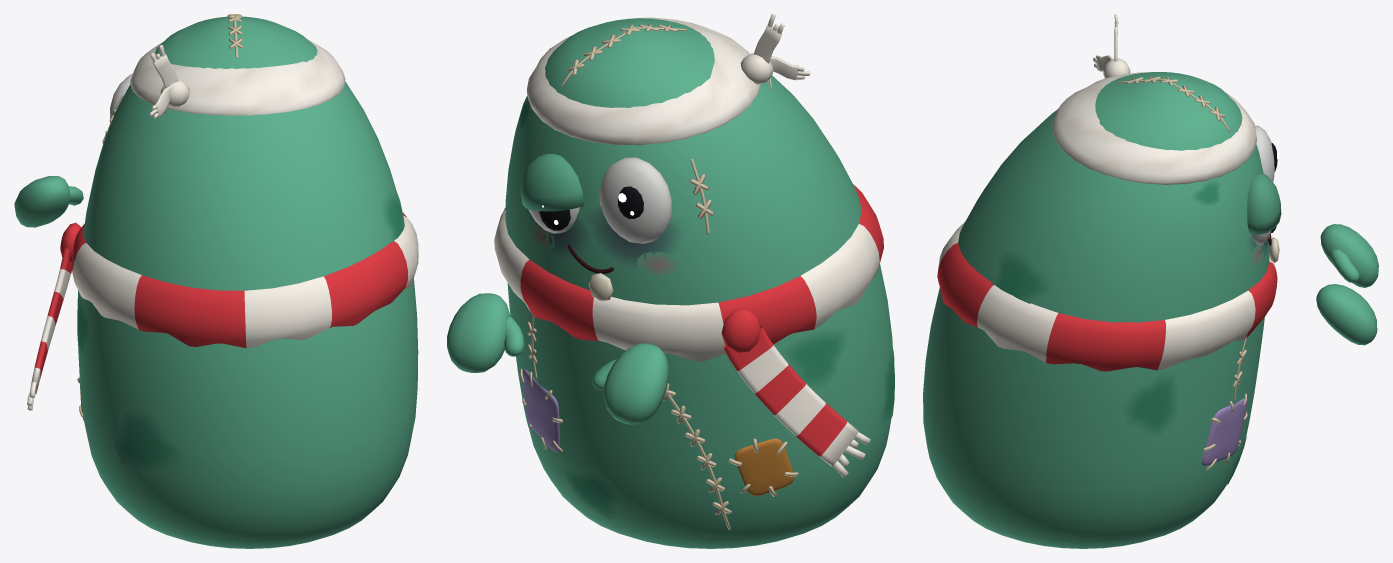
Rendered from zuko.glb.
The picture shows the model from 3 angles, left to right: view 1: azimuth 30°, elevation 25°; view 2: azimuth 150°, elevation 25°; view 3: azimuth 270°, elevation 25°; orthographic projection. The views are drawn at different scales.
Parts seen in each view (by area): view 1: body, hand.L; view 2: body, eyes, hand.R, hand.L, lid; view 3: body, hand.R, hand.L, lid, eyes.
Part boxes in pixels (left/top/right/bottom): body: left=27, top=14, right=418, bottom=548; hand.L: left=14, top=176, right=83, bottom=227; body: left=494, top=14, right=894, bottom=548; eyes: left=528, top=157, right=671, bottom=243; hand.R: left=447, top=293, right=524, bottom=372; hand.L: left=592, top=343, right=668, bottom=424; lid: left=520, top=153, right=583, bottom=211; body: left=923, top=14, right=1279, bottom=548; hand.R: left=1316, top=284, right=1377, bottom=345; hand.L: left=1320, top=224, right=1378, bottom=287; lid: left=1247, top=172, right=1281, bottom=234; eyes: left=1252, top=125, right=1281, bottom=245.
Size of the model in its own units: 1.26 by 1.65 by 1.49.
